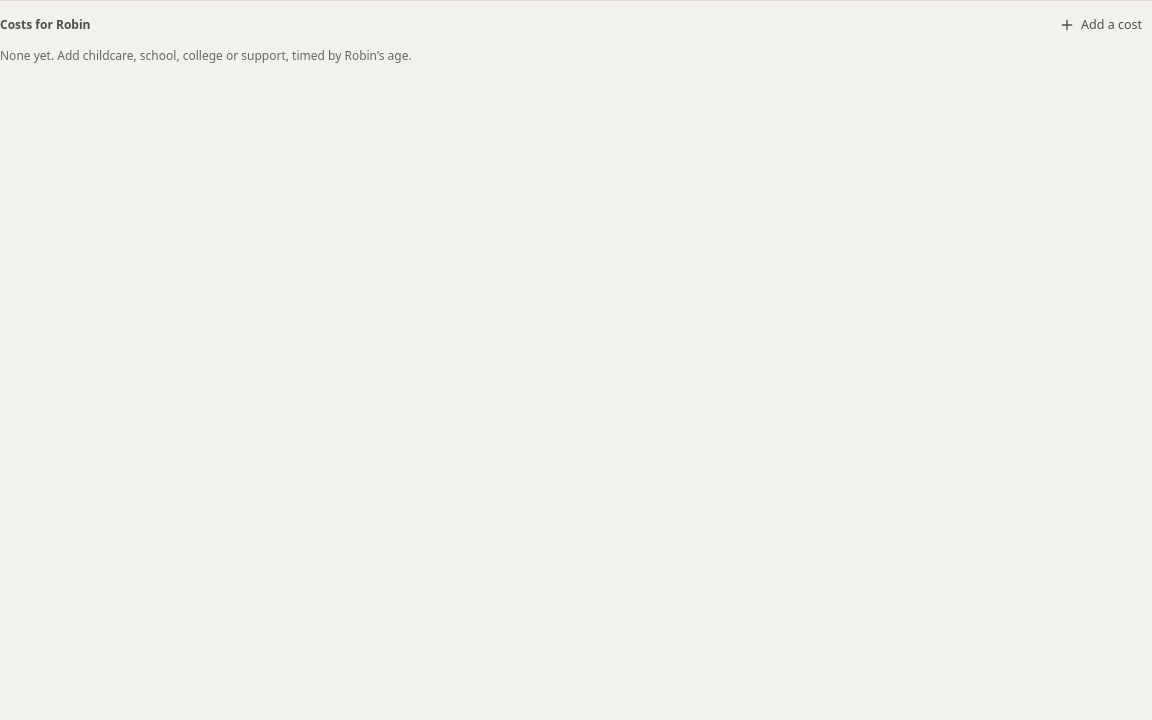
Test: Add a cost (About you) › asks for an amount instead of filling one in, then adds the cost to every plan in one undo step
Later steps or results of the test are not shown.
Click the button "Add a cost": (1100, 25) [1049,11,1151,39]
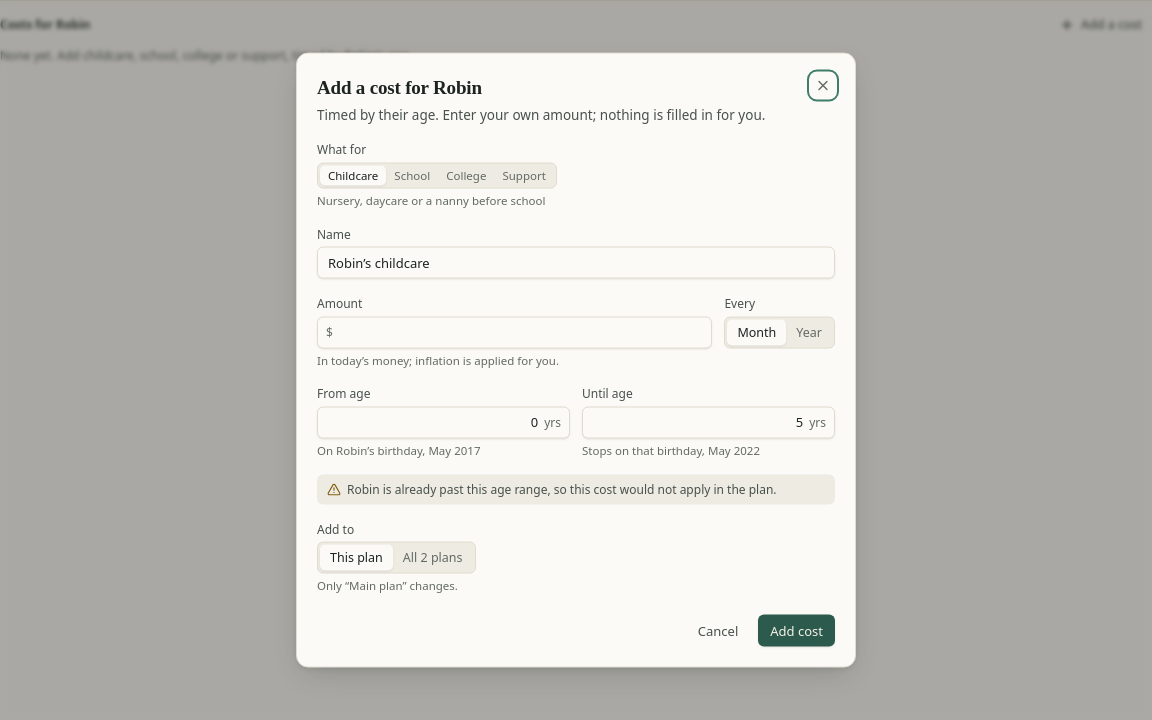
Expected: the field labelled "Amount" is empty, [339,317,704,347]
Click the radio button labelled "College": (466, 175) [438,165,494,186]
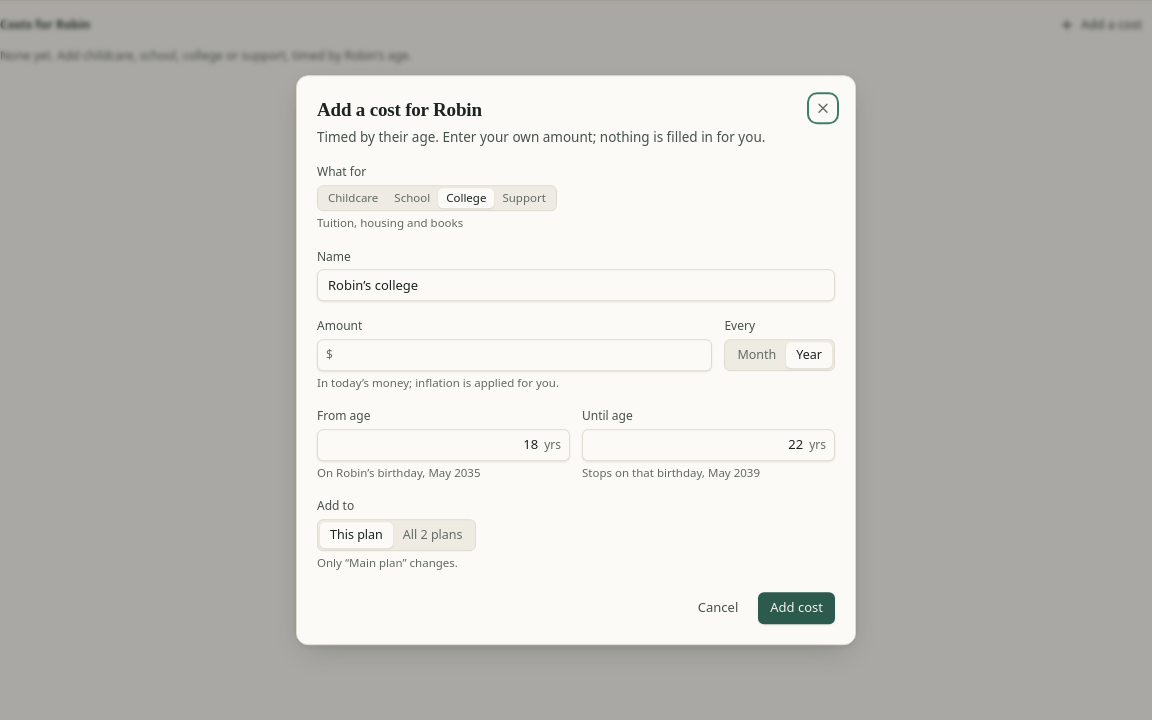
Expected: the field labelled "Name" holds "Robin’s college", [317,270,835,302]
Click the button "Add cost": (797, 608) [758,592,835,624]
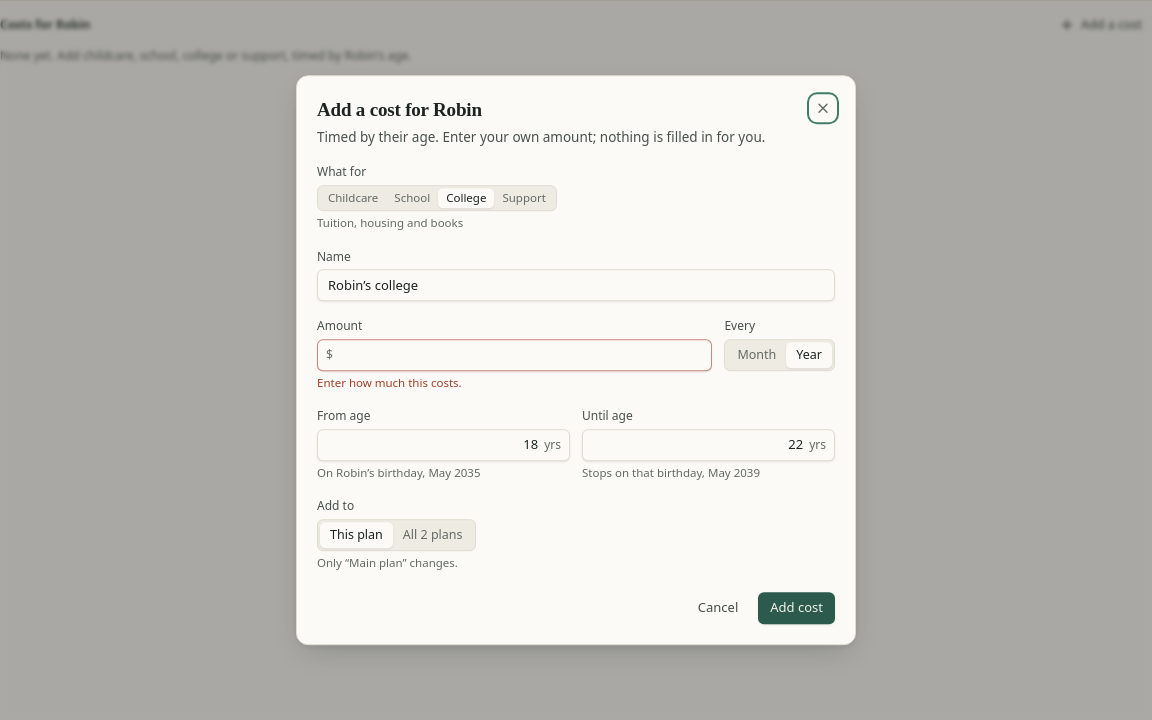
Expected: the text "Enter how much this costs." is shown, [317,375,462,390]
